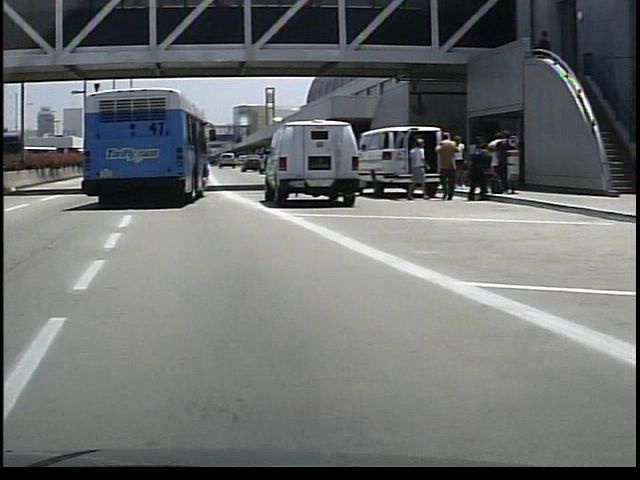person: (429, 130, 455, 203), (402, 133, 426, 201)
